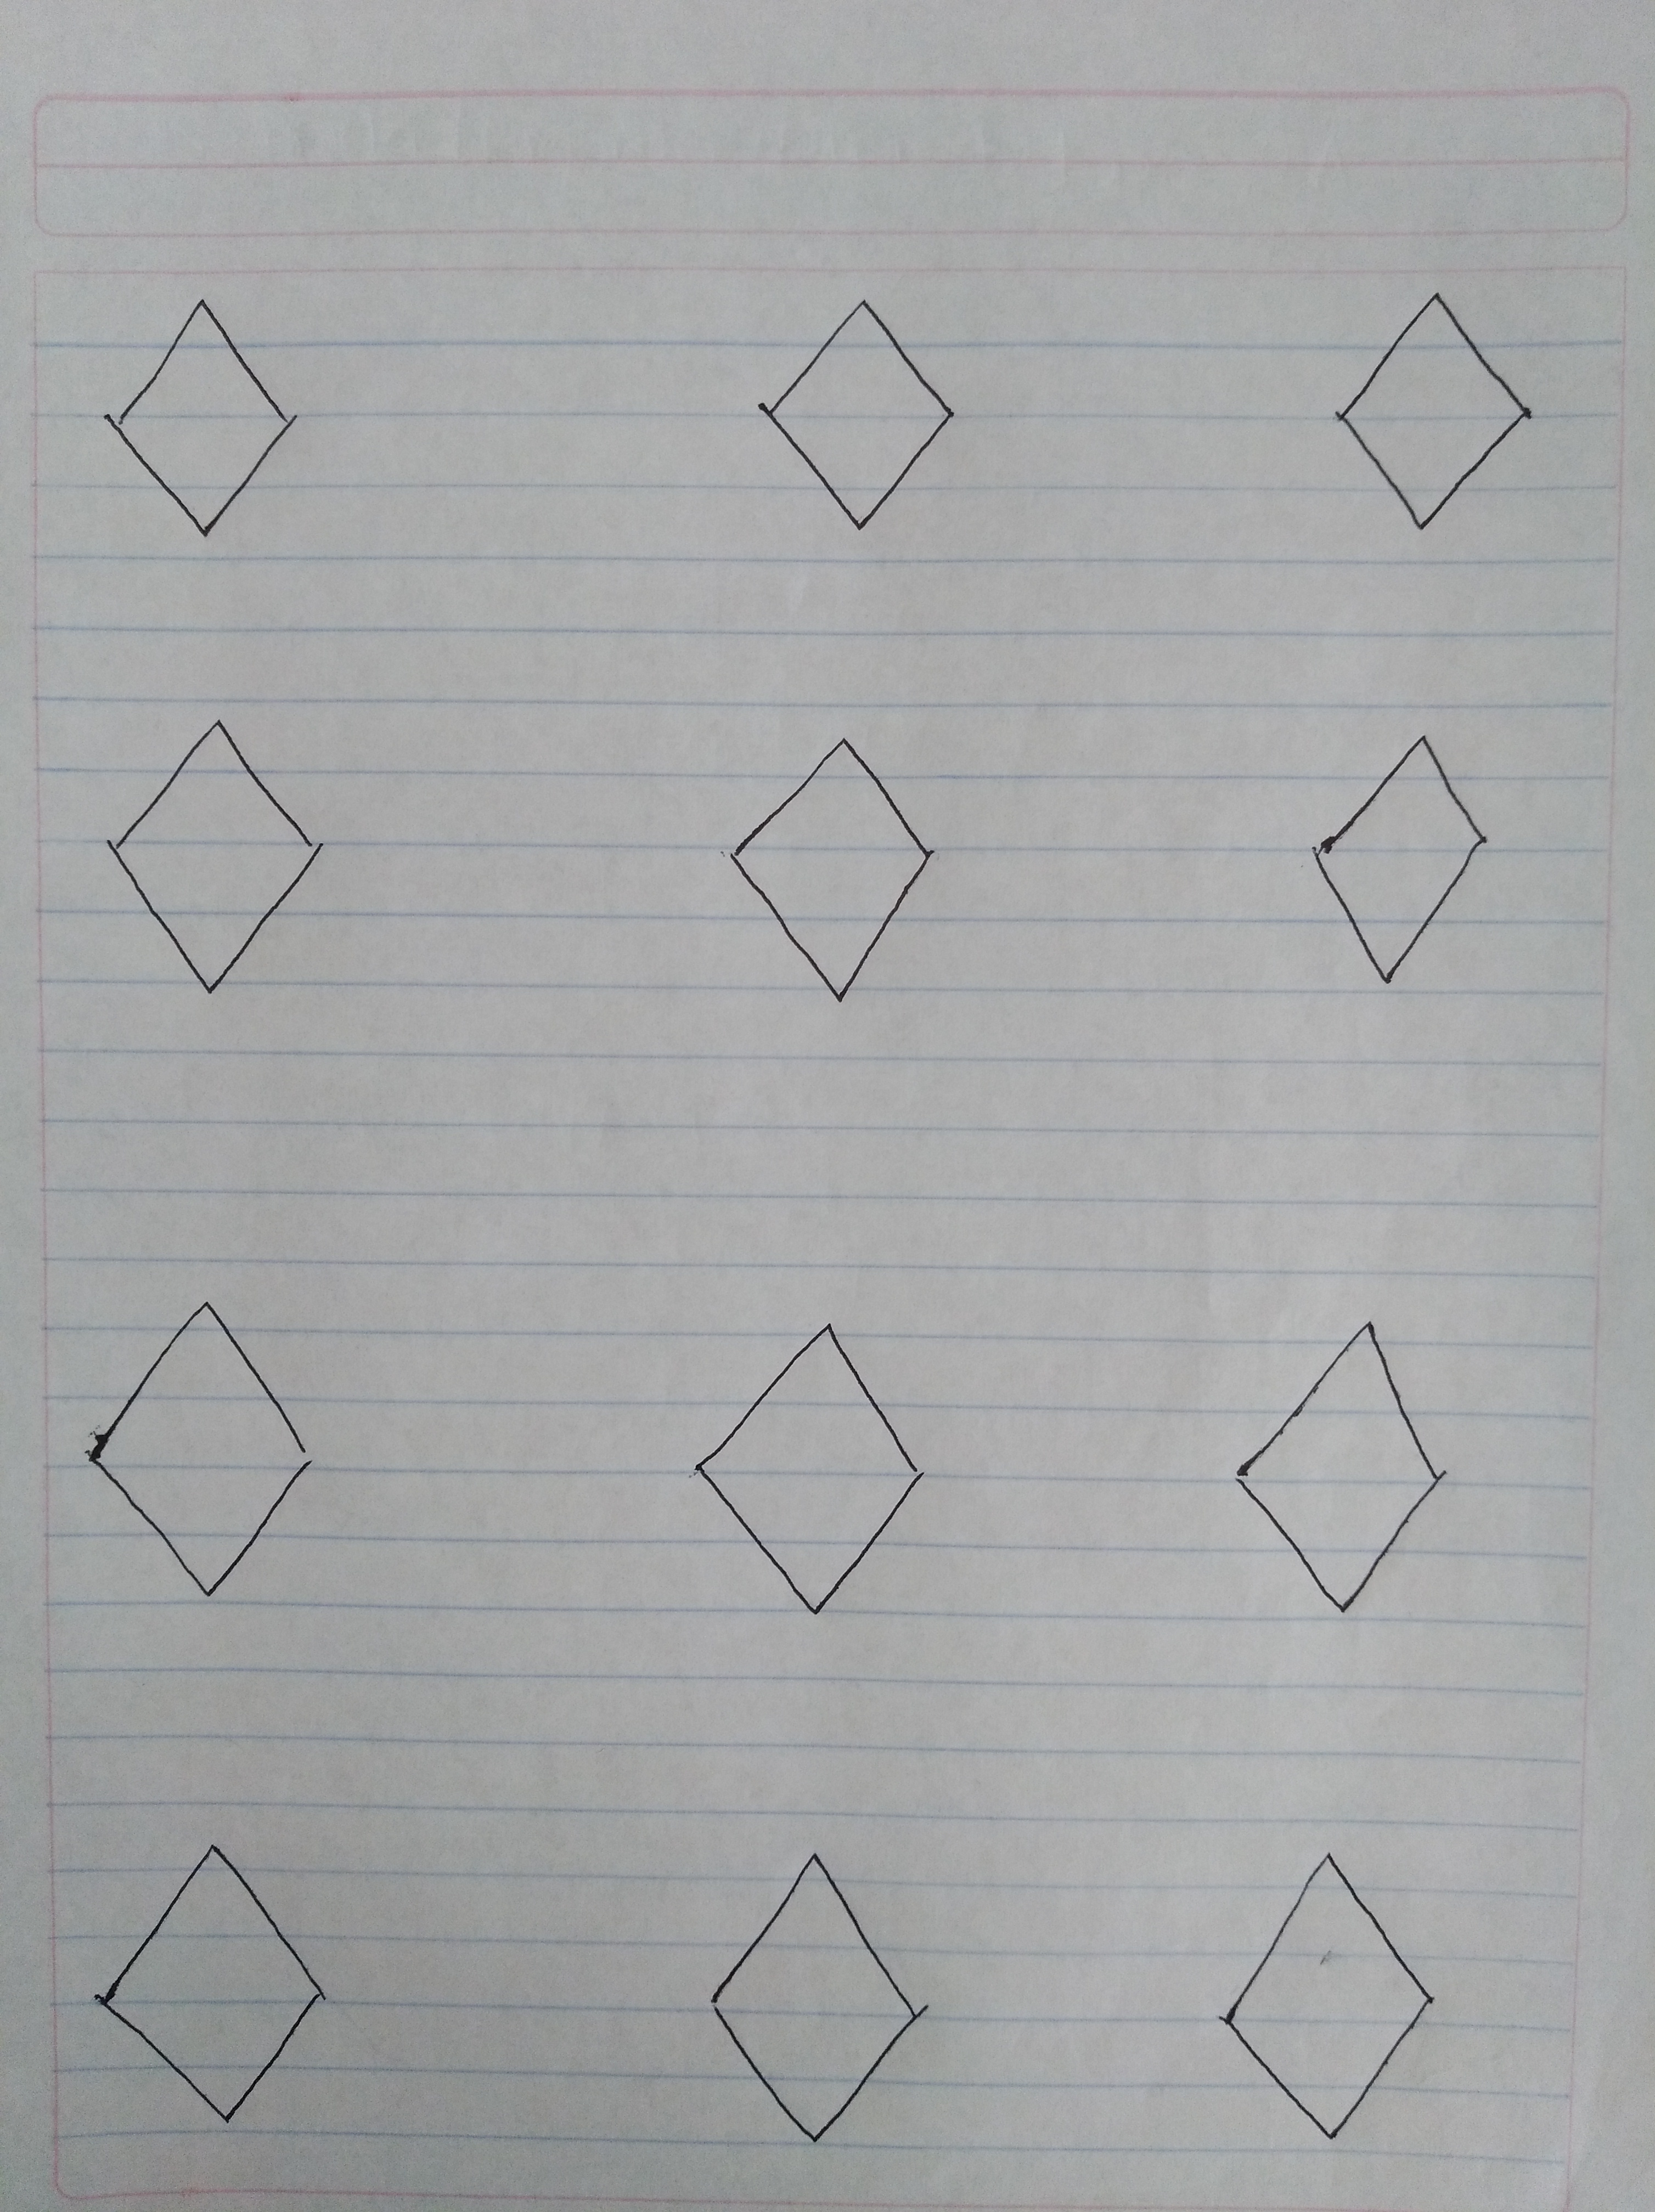decision: (662, 1289, 940, 1642), (1212, 1279, 1469, 1644), (63, 1274, 337, 1614), (73, 1812, 344, 2155), (1201, 1825, 1457, 2169), (78, 704, 358, 1017), (688, 1823, 939, 2163), (704, 714, 960, 1027), (71, 280, 332, 553), (1311, 275, 1559, 560), (734, 273, 987, 551), (1283, 707, 1509, 1008)
